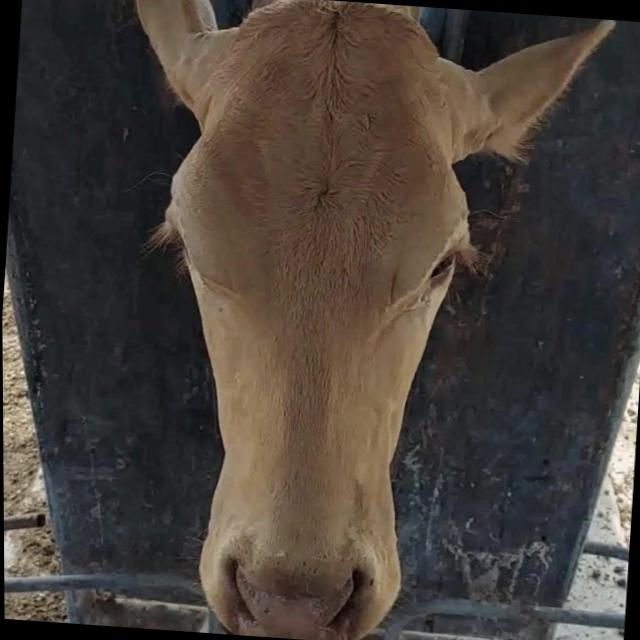cowFace: (141, 0, 485, 640)
